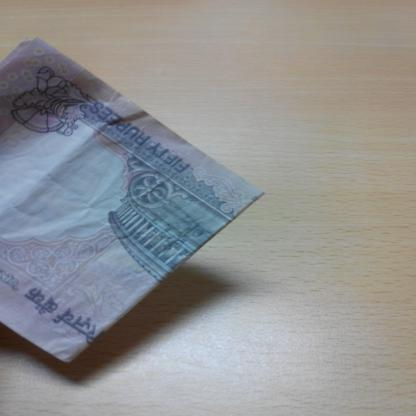Old50Back: (0, 37, 264, 363)
